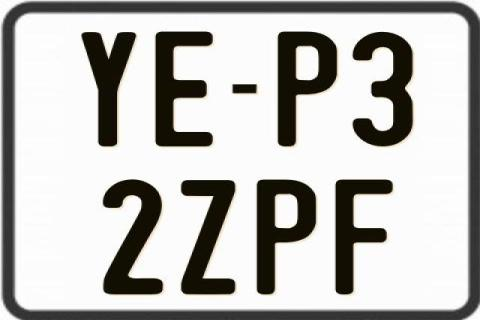0: (103, 178, 167, 298), (353, 32, 413, 151)
E: (155, 30, 216, 150)
F: (335, 180, 395, 300)
P: (275, 30, 338, 146), (256, 177, 315, 293)
Y: (82, 30, 137, 146)
Z: (178, 178, 238, 292)
